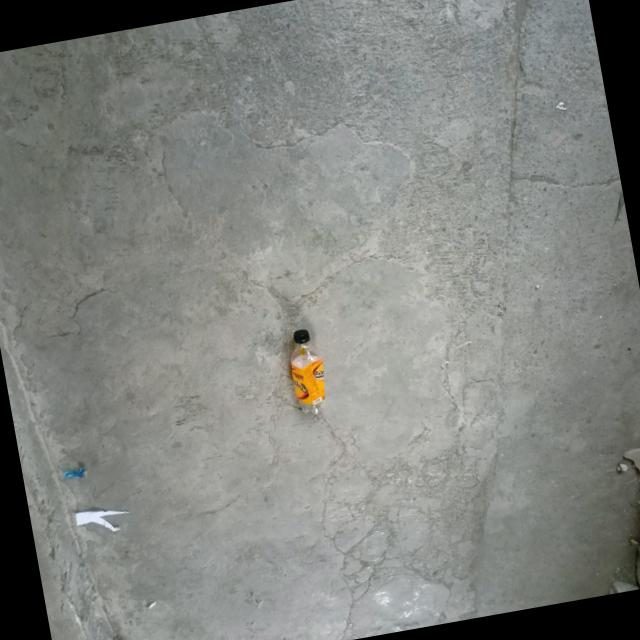Bottle: (290, 329, 325, 414)
